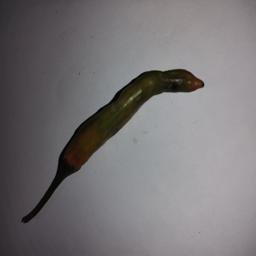Buah Cabai Sehat: (58, 66, 205, 178)
